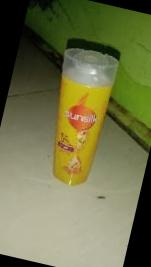Plastik: (53, 38, 120, 185)
